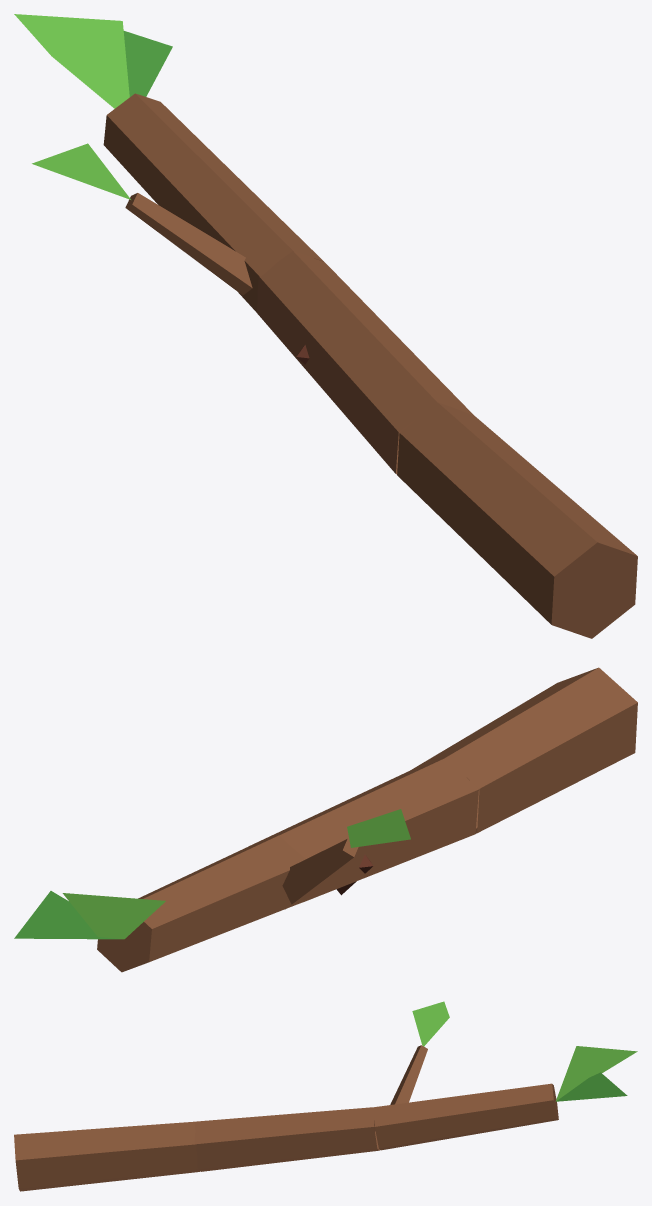
File: G_Stick_1.fbx
3 renders of one model, top to bottom at view 1: azimuth 30°, elevation 25°; view 2: azimuth 150°, elevation 25°; view 3: azimuth 270°, elevation 25°, orthographic. The views are drawn at different scales.
Parts seen in each view (by area): view 1: G_Stick_1; view 2: G_Stick_1; view 3: G_Stick_1.
Boxes of the visible parts, bbox=[...] form: G_Stick_1: bbox=[14, 14, 637, 638]; G_Stick_1: bbox=[14, 667, 637, 972]; G_Stick_1: bbox=[14, 1001, 637, 1191].
Bounding box in the file's own units: 0.3469 × 0.3181 × 1.29.
